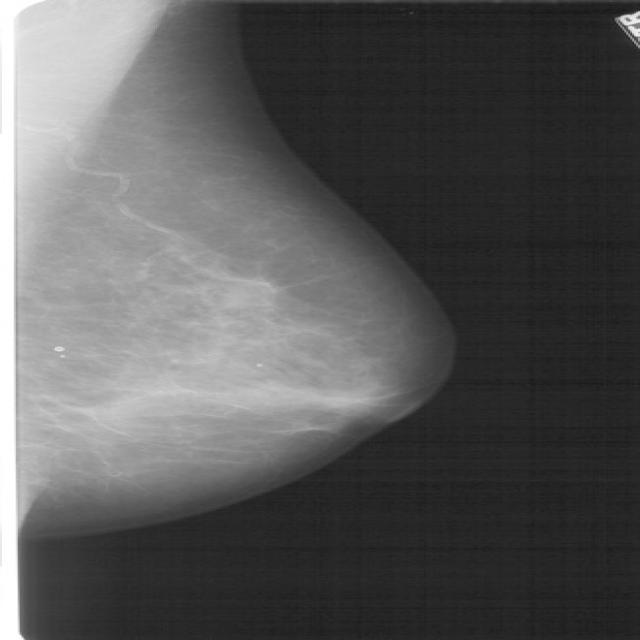tumour: (228, 282, 280, 311)
